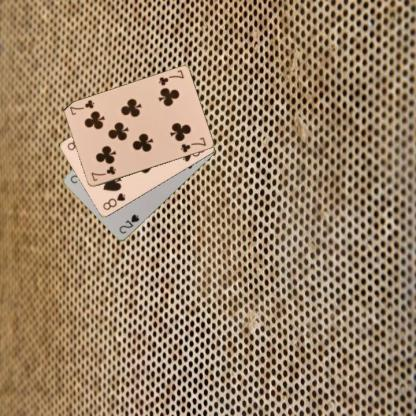2s: (117, 212, 140, 235)
7c: (156, 68, 185, 88), (88, 164, 117, 182)
8s: (100, 190, 126, 212)
